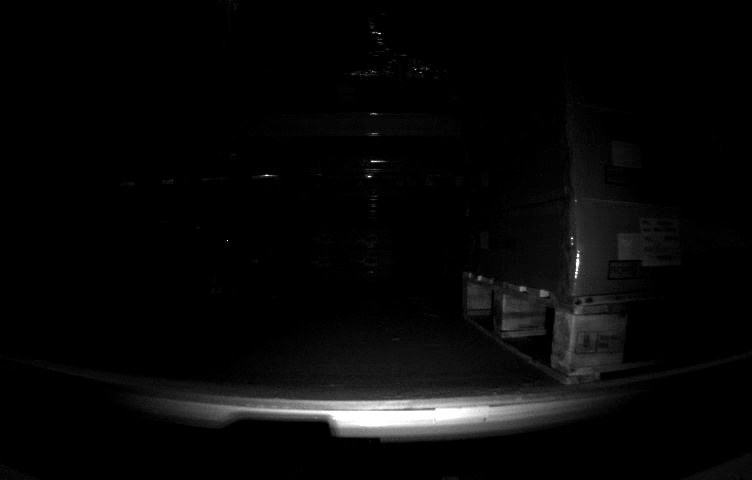True Barcode: (639, 217, 689, 270)
